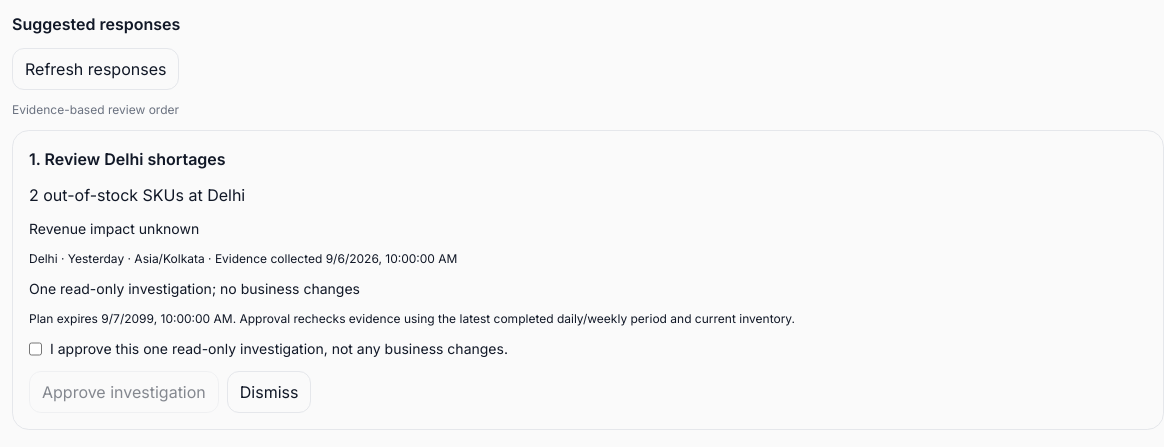
Test: human response approval › dismisses without approving a workflow
Click the button "Dismiss". click: click(269, 392)
box: [227,371,312,413]
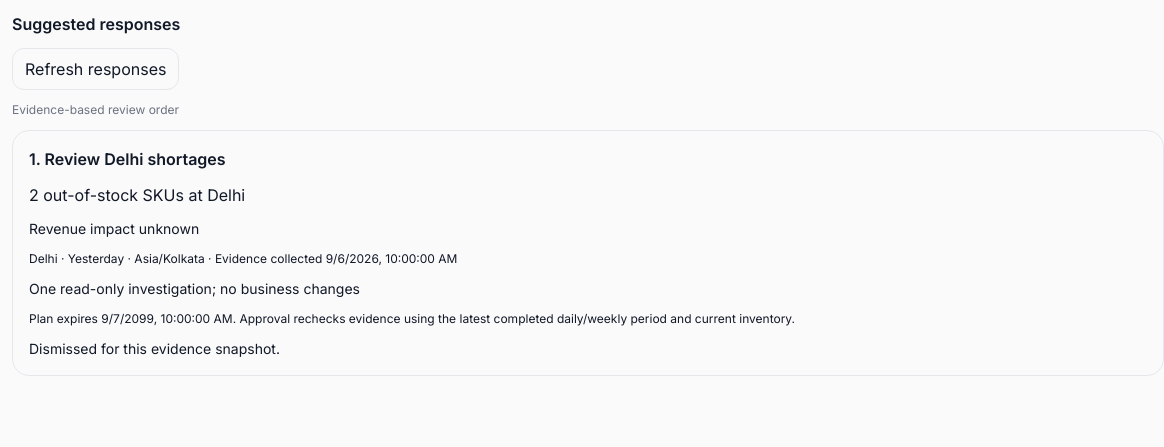
Now the text "Dismissed for this evidence snapshot." is shown, box [29,340,280,357]
